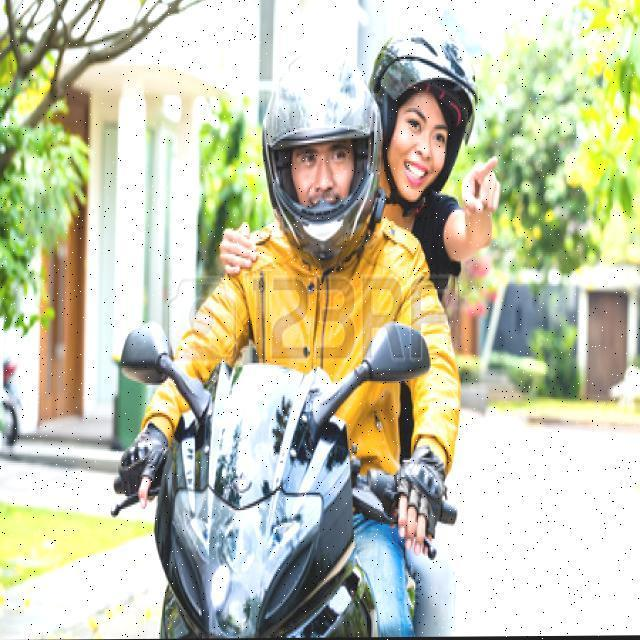Helmet: (254, 38, 392, 274), (374, 23, 476, 200)
